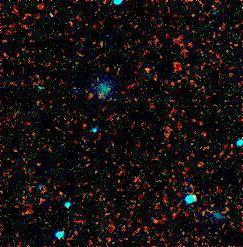star: (134, 54, 164, 84)
